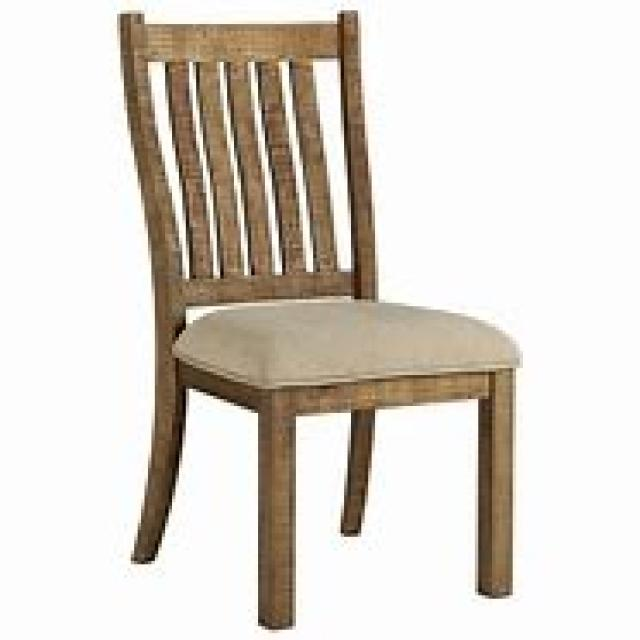chair: (114, 7, 523, 626)
